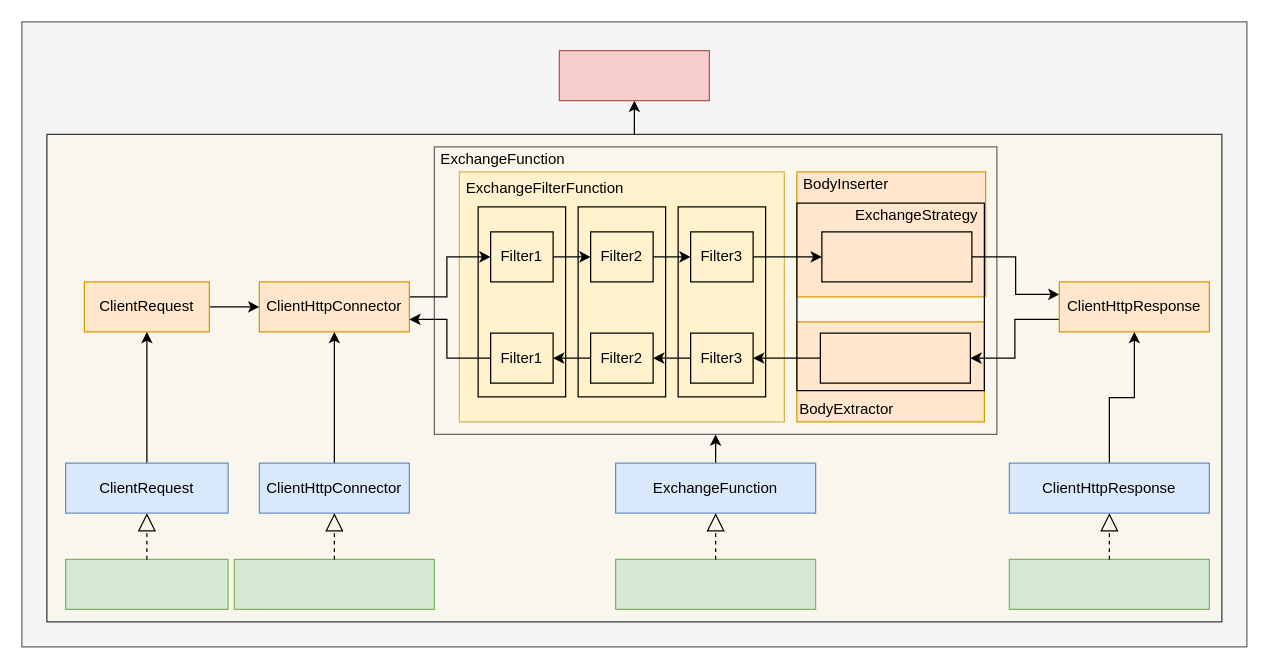
This 1269x669 diagram has some shape labels left out. The shapes that lost their labels are listed below. From the top down, each one's centre as x and y in pixels, then its label:
pixel 633 75: WebClient
pixel 896 256: HttpMessageWriter
pixel 894 357: HttpMessageReader
pixel 146 583: BodyInserterRequest
pixel 333 583: ReactorClientHttpConnector
pixel 715 583: DefaultExchangeFunction
pixel 1108 583: DefaultClientHttpResponse
